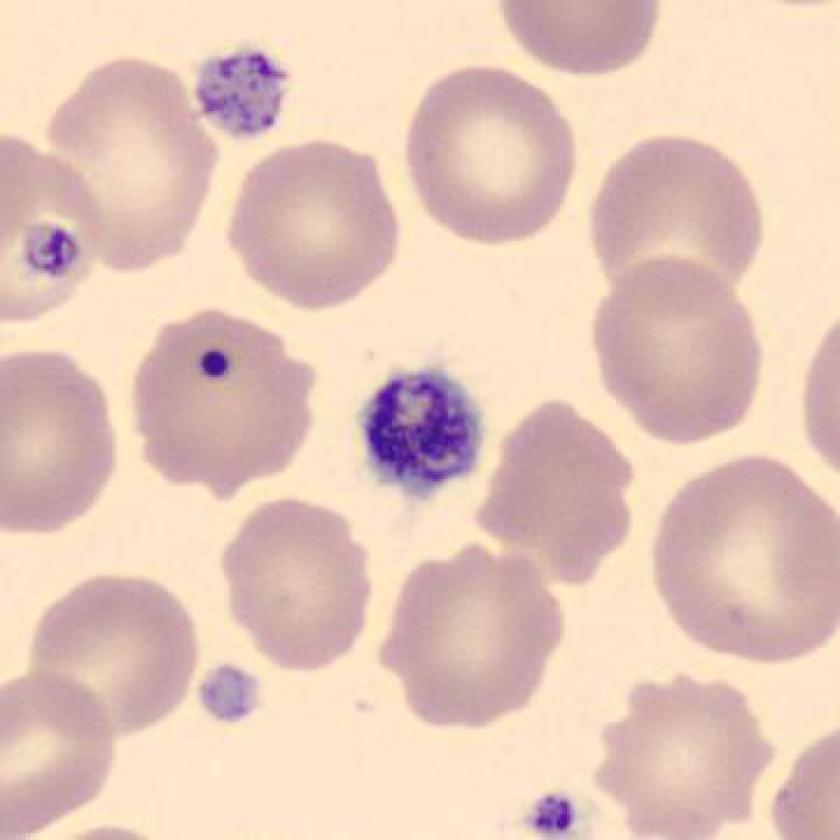platelets: (349, 355, 491, 512), (183, 33, 304, 147), (192, 651, 274, 730), (510, 781, 596, 840)
